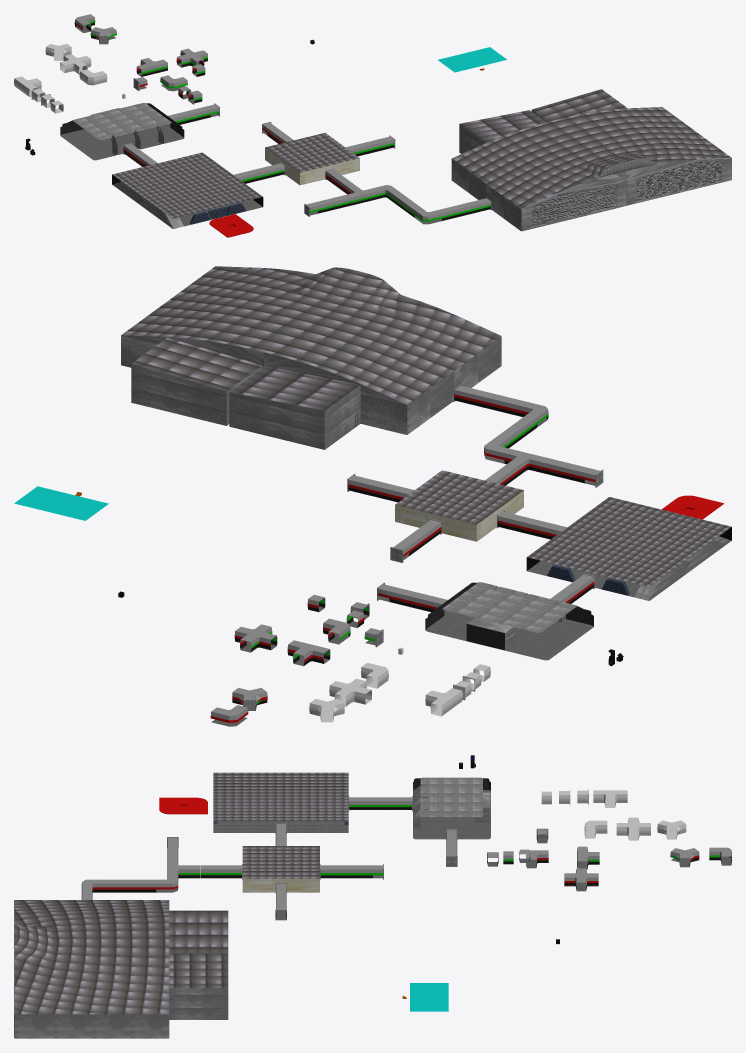
The model's file is final-map.obj.
3 views of the same model, one above another, from view 1: azimuth 30°, elevation 25°; view 2: azimuth 150°, elevation 25°; view 3: azimuth 270°, elevation 25° (orthographic). The views are drawn at different scales.
Parts seen in each view (by area): view 1: Borde.002_Cube.022, Borde_Cube.008, Entrenamiento_Cube.003, Borde.001_Cube.015, Plataforma_Cube.020, Mesa_Cube.005, Mostrador_Cube.004, Corridor.004_Cube.006, Cube.004_Cube.006, Cube.005_Cube.007, Cube.005_Cube.001_Cube.005_Cube.007; view 2: Borde.002_Cube.022, Borde_Cube.008, Entrenamiento_Cube.003, Borde.001_Cube.015, Plataforma_Cube.020, Mostrador_Cube.004, Mesa_Cube.005, Cube.004_Cube.006, Corridor.004_Cube.006, Cube.005_Cube.007, Corridor.005_Cube.007; view 3: Borde.002_Cube.022, Borde_Cube.008, Entrenamiento_Cube.003, Borde.001_Cube.015, Plataforma_Cube.020, Mesa_Cube.005, Cube.004_Cube.006, Corridor.004_Cube.006, Corridor.005_Cube.007.
Boxes of the visible parts, x1,y1,x2,y2 form: Borde.002_Cube.022: [451, 89, 731, 231]; Borde_Cube.008: [112, 152, 263, 228]; Entrenamiento_Cube.003: [60, 103, 184, 160]; Borde.001_Cube.015: [265, 133, 359, 185]; Plataforma_Cube.020: [438, 47, 506, 72]; Mesa_Cube.005: [209, 214, 253, 237]; Mostrador_Cube.004: [113, 181, 183, 228]; Corridor.004_Cube.006: [60, 54, 91, 74]; Cube.004_Cube.006: [176, 48, 207, 67]; Cube.005_Cube.007: [136, 58, 167, 76]; Cube.005_Cube.001_Cube.005_Cube.007: [346, 187, 376, 205]; Borde.002_Cube.022: [121, 266, 501, 449]; Borde_Cube.008: [526, 497, 731, 600]; Entrenamiento_Cube.003: [425, 582, 593, 660]; Borde.001_Cube.015: [395, 470, 523, 541]; Plataforma_Cube.020: [14, 486, 108, 520]; Mostrador_Cube.004: [634, 536, 730, 600]; Mesa_Cube.005: [661, 495, 723, 519]; Cube.004_Cube.006: [234, 624, 277, 652]; Corridor.004_Cube.006: [329, 678, 371, 706]; Cube.005_Cube.007: [287, 640, 330, 666]; Corridor.005_Cube.007: [425, 688, 462, 716]; Borde.002_Cube.022: [14, 900, 228, 1038]; Borde_Cube.008: [213, 772, 348, 832]; Entrenamiento_Cube.003: [413, 777, 490, 839]; Borde.001_Cube.015: [242, 846, 319, 892]; Plataforma_Cube.020: [410, 983, 448, 1011]; Mesa_Cube.005: [159, 797, 207, 814]; Cube.004_Cube.006: [564, 868, 598, 891]; Corridor.004_Cube.006: [616, 817, 650, 840]; Corridor.005_Cube.007: [593, 790, 627, 807].
Bounding box in the file's own units: 332 × 28.52 × 372.
Materials: 82 (29 with a texture image).
